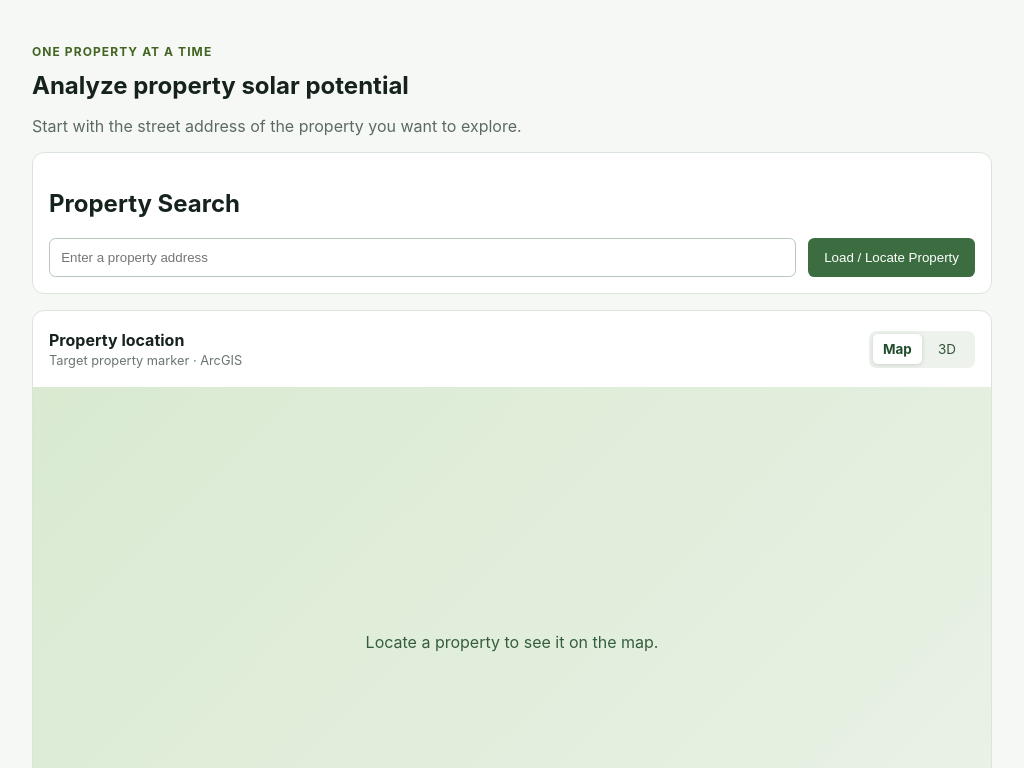
Analyze property search › shows a service error and allows retry
In the field labelled "property address": (423, 258) [49,238,796,277], type "380 New York St, Redlands CA"
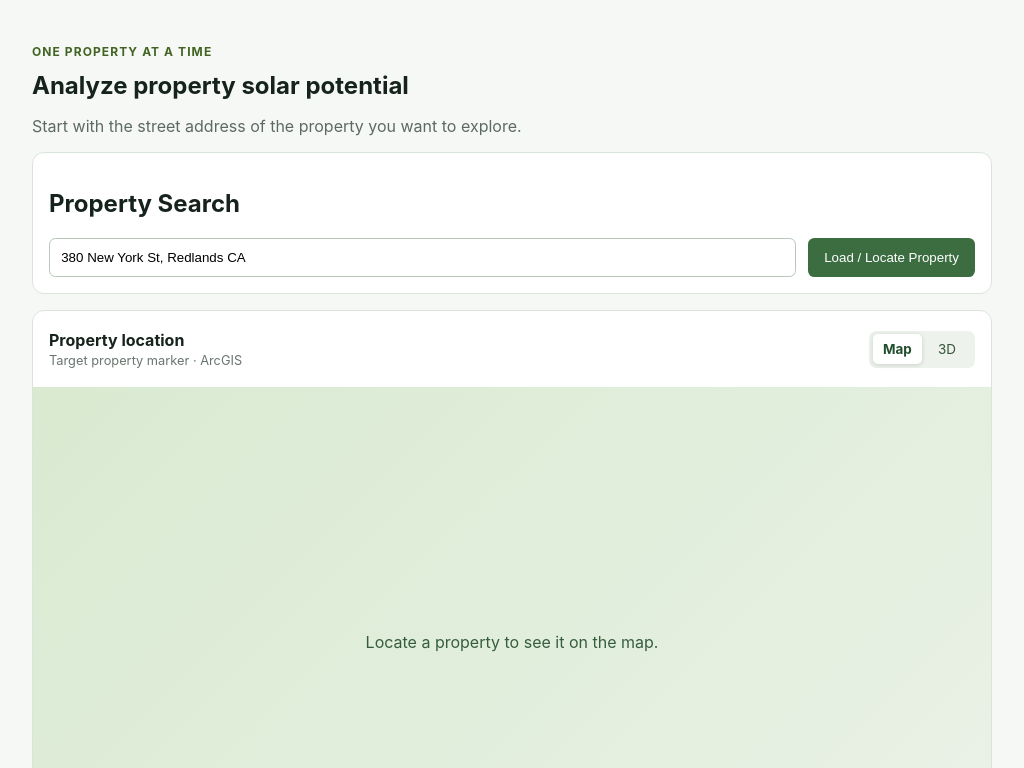
Click the button "Load / Locate Property": (892, 258) [808,238,975,277]
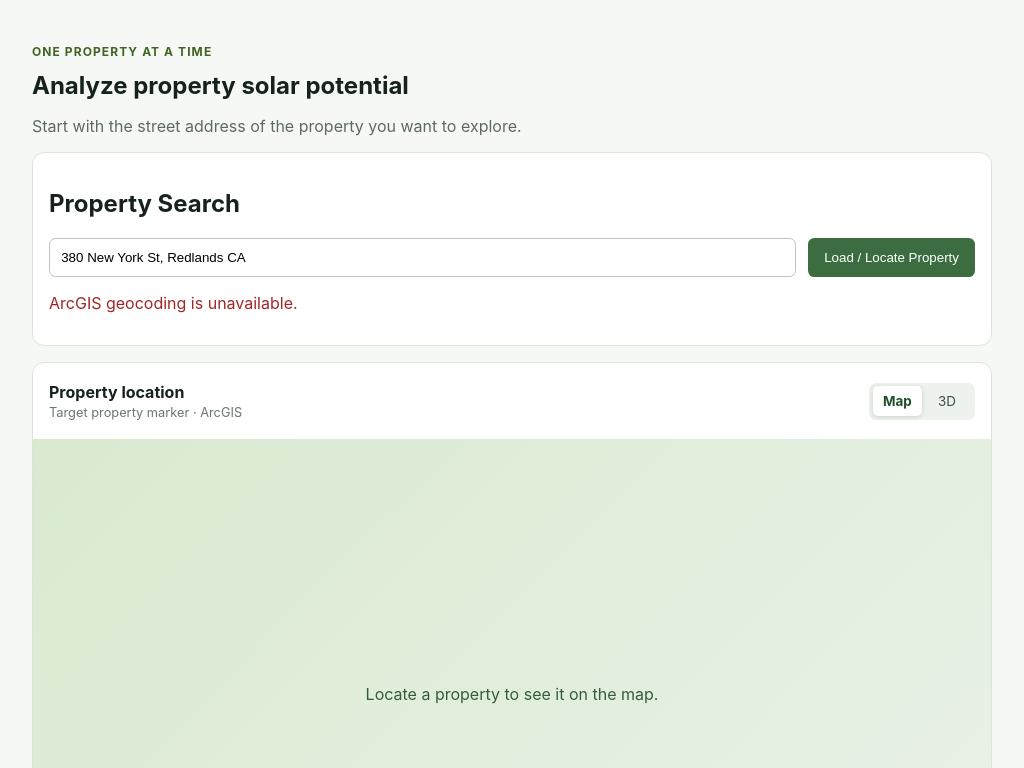
Expected: the message reads "ArcGIS geocoding is unavailable.", [49,293,298,313]
